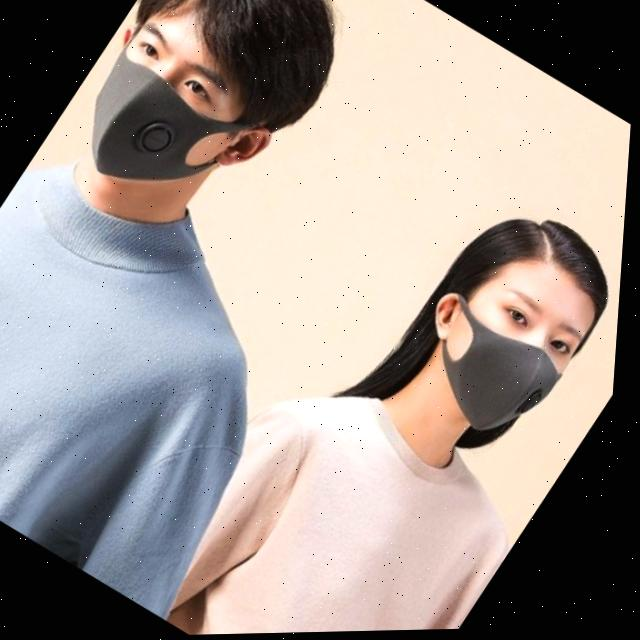Mask: (46, 12, 304, 247), (397, 266, 595, 455)
